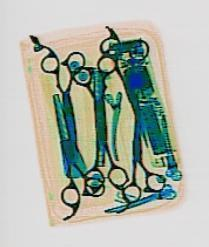Scissors: (31, 86, 106, 207), (73, 71, 127, 190), (37, 49, 97, 152), (113, 93, 164, 200), (69, 53, 124, 149)
